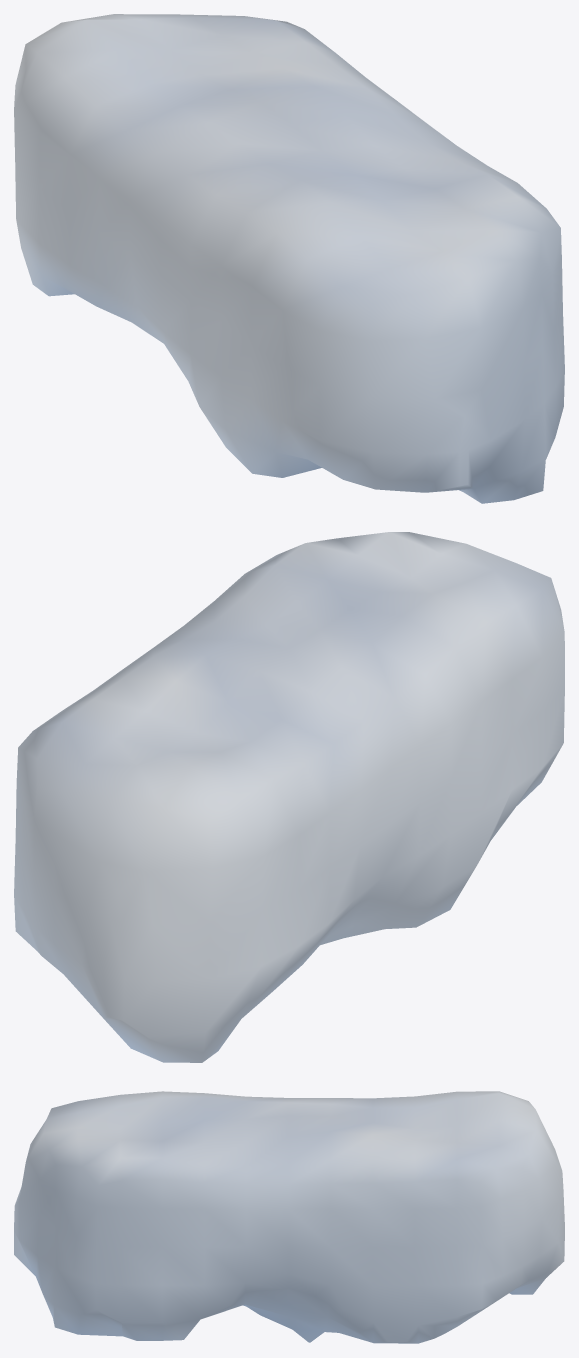
File: Luna0RainbowNuvemContinuaFinal.glb
The picture shows the model from 3 angles, top to bottom: view 1: azimuth 30°, elevation 25°; view 2: azimuth 150°, elevation 25°; view 3: azimuth 270°, elevation 25°; orthographic projection. The views are drawn at different scales.
Parts seen in each view (by area): view 1: Luna0RainbowNuvemContinuaFinal; view 2: Luna0RainbowNuvemContinuaFinal; view 3: Luna0RainbowNuvemContinuaFinal.
Part boxes in pixels (bbox=[...]): Luna0RainbowNuvemContinuaFinal: bbox=[14, 14, 564, 503]; Luna0RainbowNuvemContinuaFinal: bbox=[14, 532, 564, 1062]; Luna0RainbowNuvemContinuaFinal: bbox=[14, 1091, 564, 1343].
Size of the model in its own units: 1.34 by 1.51 by 3.4.
